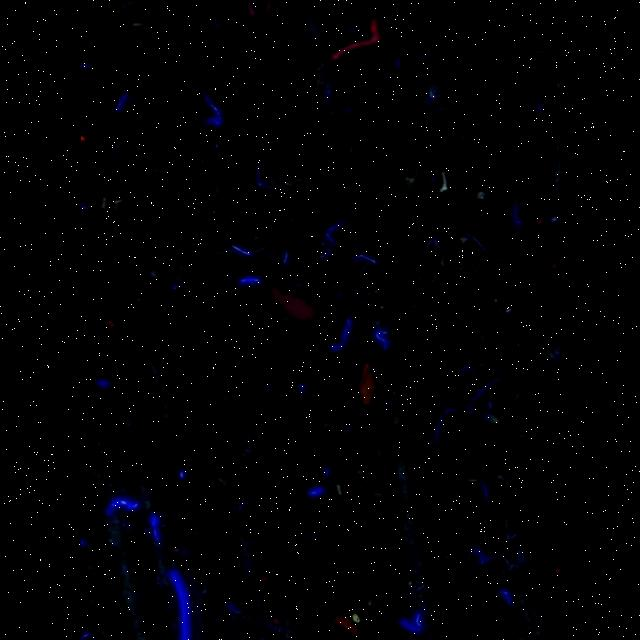Fibre: (253, 161, 273, 189)
